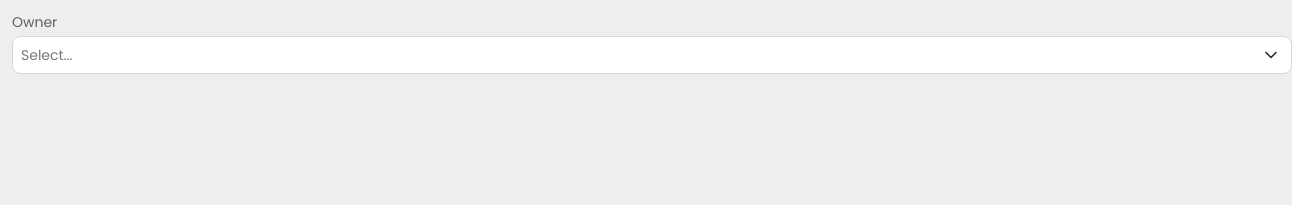
people and pictures in the combo box › shows initials for someone with no picture and the profile picture for a linked sign-in, signing every picture in one request
Step 1. Click the dropdown labelled "Owner" → (634, 55), box [21,44,1247,66]
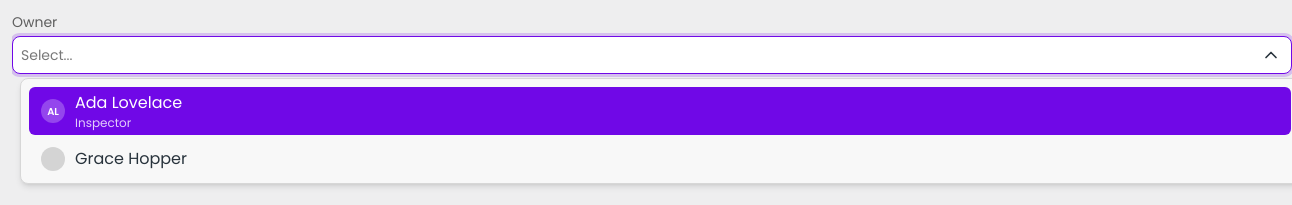
Result: the text "AL" is shown at [41,99,65,123]
